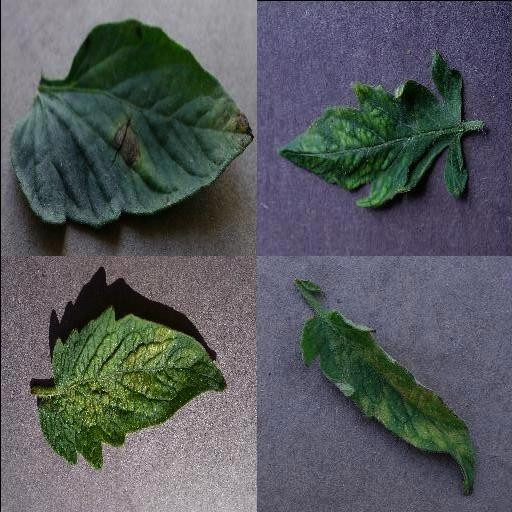Early Blight: (10, 20, 252, 224)
Leaf Mold: (299, 312, 477, 494)
Mosaic Virus: (277, 48, 471, 206)
Spider Mites: (39, 306, 229, 469)
